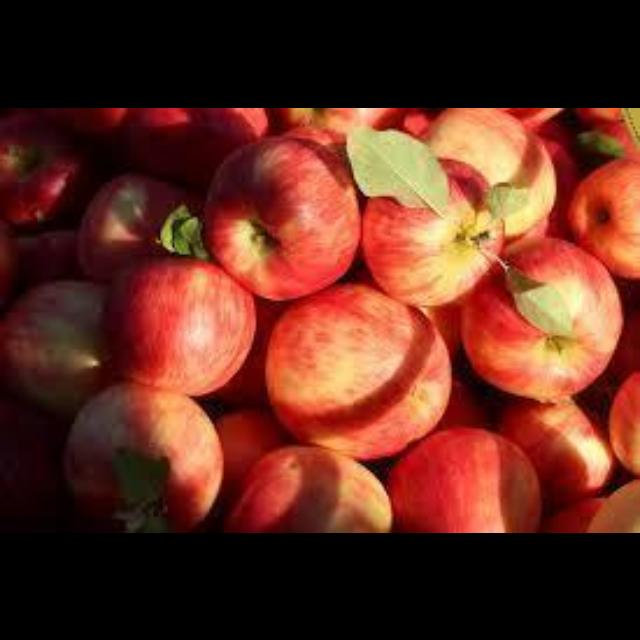apple: (265, 284, 449, 458), (461, 237, 621, 400), (202, 135, 358, 298), (63, 382, 221, 531), (361, 158, 503, 305), (102, 256, 254, 393), (424, 107, 554, 237), (386, 426, 540, 531), (0, 279, 112, 417), (223, 447, 389, 531), (498, 400, 612, 505), (0, 112, 93, 228), (568, 158, 638, 277)
